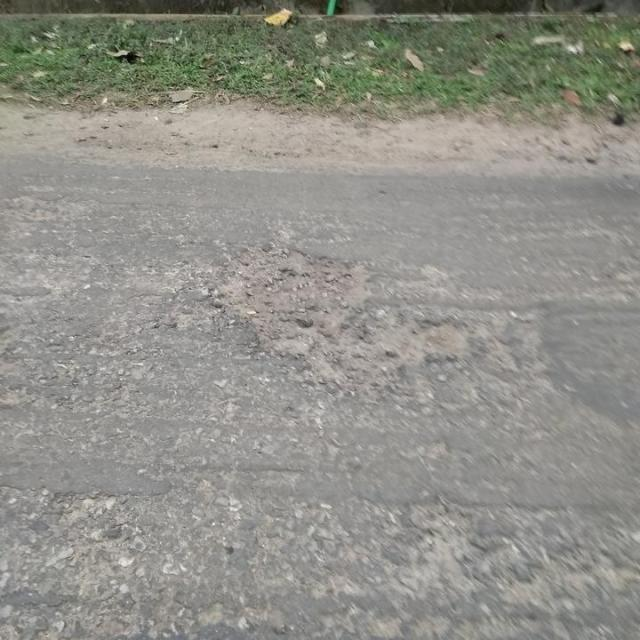road-pothole: (201, 242, 482, 397)
